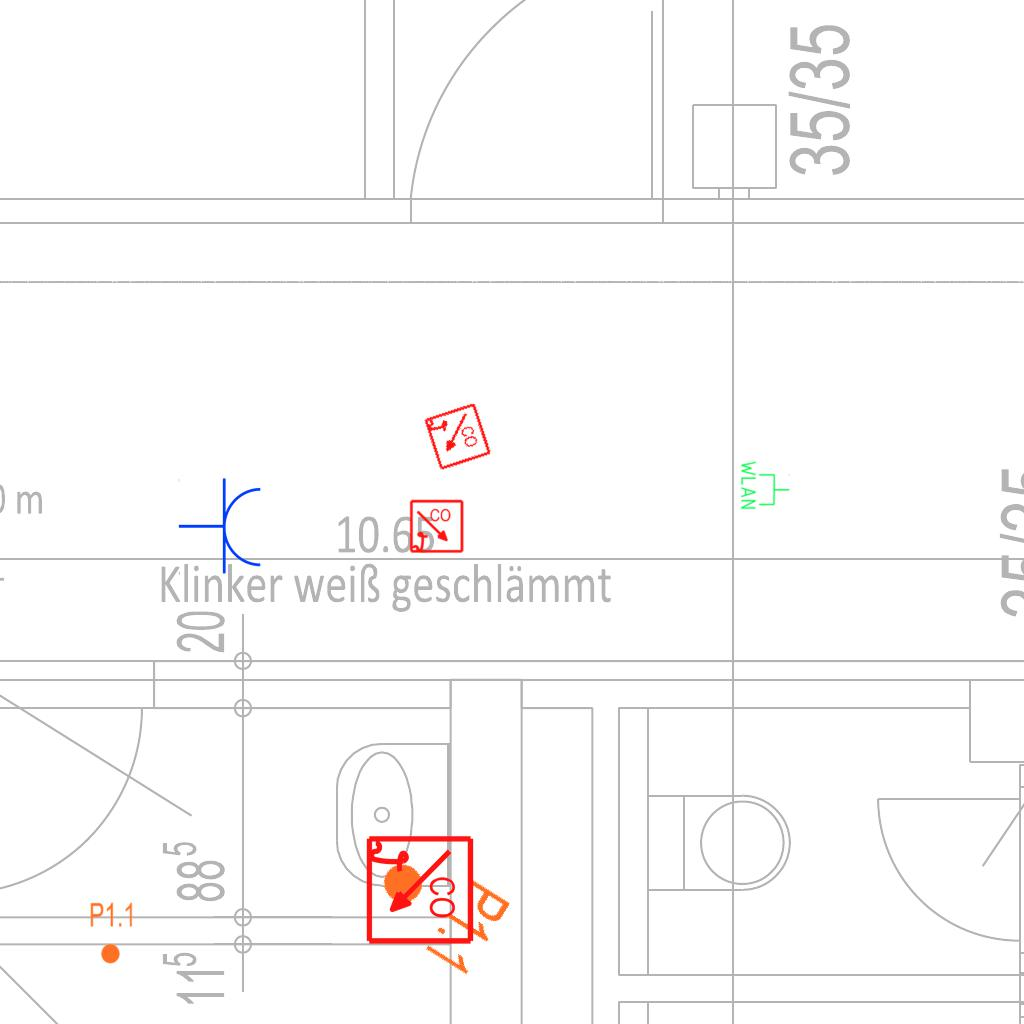Downlight_LED_Einbauleuchten_Flur: (357, 834, 516, 982), (89, 901, 135, 965)
ROA_Rauchmelder_optisch_mit_Signalgeber_(Sockelsirene): (362, 834, 475, 947), (421, 401, 493, 473), (409, 499, 465, 555)
Schukosteckdose_einfach: (178, 477, 265, 577)
WLAN: (739, 459, 791, 511)
